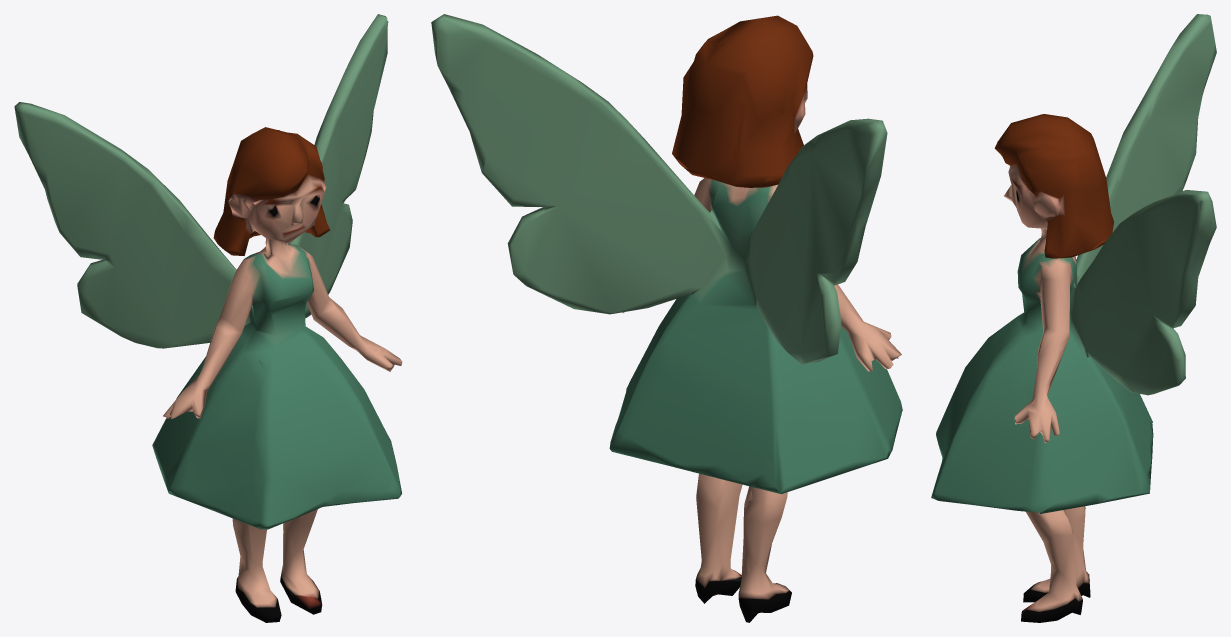
Rendered from gen3d-fairy-lod0.glb.
3 views of the same model, side by side, from view 1: azimuth 30°, elevation 25°; view 2: azimuth 150°, elevation 25°; view 3: azimuth 270°, elevation 25° (orthographic). The views are drawn at different scales.
Visible parts, largest first — view 1: part_0; view 2: part_0; view 3: part_0.
Part boxes in pixels (x1,y1,x2,y2): part_0: (14,14,402,622); part_0: (431,14,902,622); part_0: (931,14,1216,622).
Size of the model in its own units: 0.785 by 0.9988 by 0.511.
